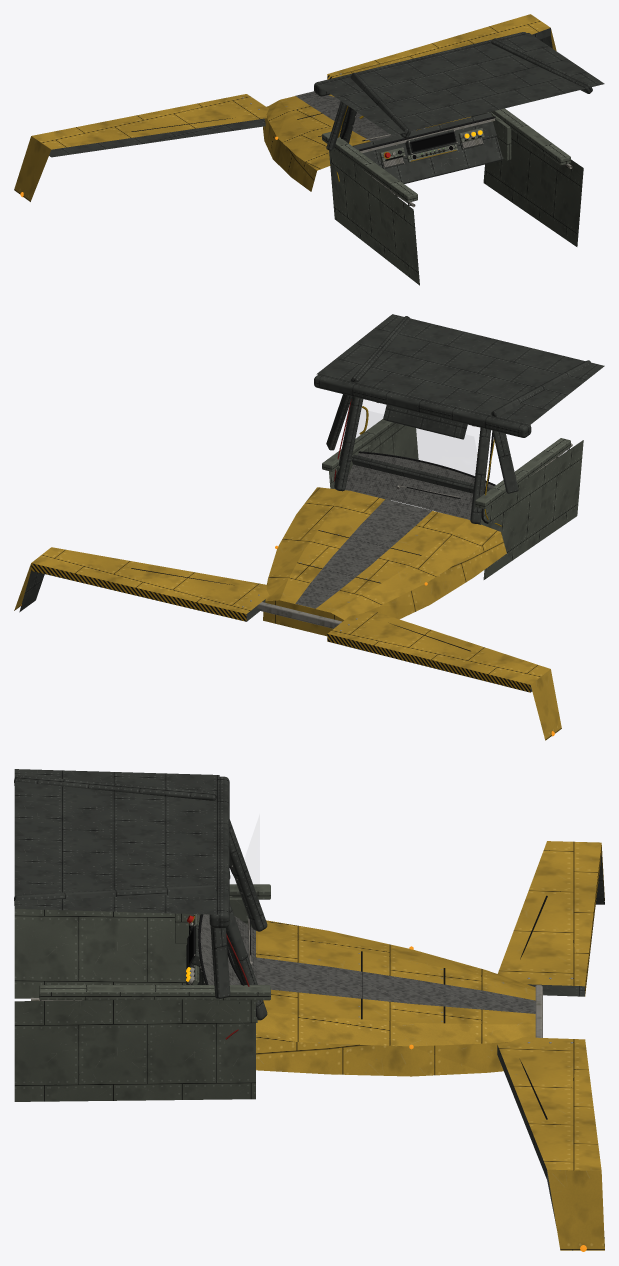
Rendered from cockpit_hammer.glb.
3 renders of one model, top to bottom at view 1: azimuth 30°, elevation 25°; view 2: azimuth 150°, elevation 25°; view 3: azimuth 270°, elevation 25°, orthographic. The views are drawn at different scales.
Visible parts, largest first — view 1: Frame_M_PlateDark_NoShadow, Canard_M_PaintNose, Side_R_M_Plate, Side_L_M_Plate, Nose_M_PaintNose, Dash_M_PlateDark, Canard_M_PlateDark, Side_L_M_PlateDark, Nose_M_Tread, Side_R_M_PlateDark, Frame_M_PlateDark, Console_M_Plate (+3 smaller); view 2: Nose_M_PaintNose, Frame_M_PlateDark_NoShadow, Canard_M_PaintNose, Side_L_M_Plate, Nose_M_Tread, Dash_M_Tread, Canard_M_Hazard, Frame_M_PlateDark, Side_L_M_PlateDark, Side_R_M_PlateDark, Side_R_M_Plate, Console_M_PlateDark (+3 smaller); view 3: Side_R_M_Plate, Nose_M_PaintNose, Frame_M_PlateDark_NoShadow, Canard_M_PaintNose, Side_L_M_Plate, Nose_M_Tread, Side_R_M_PlateDark, Side_L_M_PlateDark, Frame_M_PlateDark, Canard_M_PlateDark, Dash_M_Tread.
Part boxes in pixels (<box>): Frame_M_PlateDark_NoShadow: <box>316,33,604,135</box>; Canard_M_PaintNose: <box>14,14,556,201</box>; Side_R_M_Plate: <box>481,108,583,246</box>; Side_L_M_Plate: <box>322,132,419,285</box>; Nose_M_PaintNose: <box>263,94,470,191</box>; Dash_M_PlateDark: <box>352,112,503,183</box>; Canard_M_PlateDark: <box>49,28,552,157</box>; Side_L_M_PlateDark: <box>326,72,410,150</box>; Nose_M_Tread: <box>295,91,415,141</box>; Side_R_M_PlateDark: <box>471,38,592,116</box>; Frame_M_PlateDark: <box>314,32,526,96</box>; Console_M_Plate: <box>379,128,484,162</box>; Nose_M_PaintNose: <box>263,487,506,636</box>; Frame_M_PlateDark_NoShadow: <box>316,314,604,425</box>; Canard_M_PaintNose: <box>14,547,561,740</box>; Side_L_M_Plate: <box>475,438,583,579</box>; Nose_M_Tread: <box>295,499,431,608</box>; Dash_M_Tread: <box>345,453,494,519</box>; Canard_M_Hazard: <box>31,563,530,692</box>; Frame_M_PlateDark: <box>314,374,531,437</box>; Side_L_M_PlateDark: <box>470,360,591,523</box>; Side_R_M_PlateDark: <box>326,316,410,491</box>; Side_R_M_Plate: <box>322,419,418,499</box>; Console_M_PlateDark: <box>383,405,467,439</box>; Side_R_M_Plate: <box>14,985,270,1101</box>; Nose_M_PaintNose: <box>256,920,535,1076</box>; Frame_M_PlateDark_NoShadow: <box>14,769,219,914</box>; Canard_M_PaintNose: <box>497,841,604,1250</box>; Side_L_M_Plate: <box>14,884,270,998</box>; Nose_M_Tread: <box>256,957,535,1013</box>; Side_R_M_PlateDark: <box>14,884,267,1020</box>; Side_L_M_PlateDark: <box>14,775,267,931</box>; Frame_M_PlateDark: <box>209,776,229,928</box>; Canard_M_PlateDark: <box>497,855,604,1246</box>; Dash_M_Tread: <box>200,914,255,984</box>.
Bounding box in the file's own units: 5.02 × 1.61 × 3.57.
44 materials, 7 textured.
